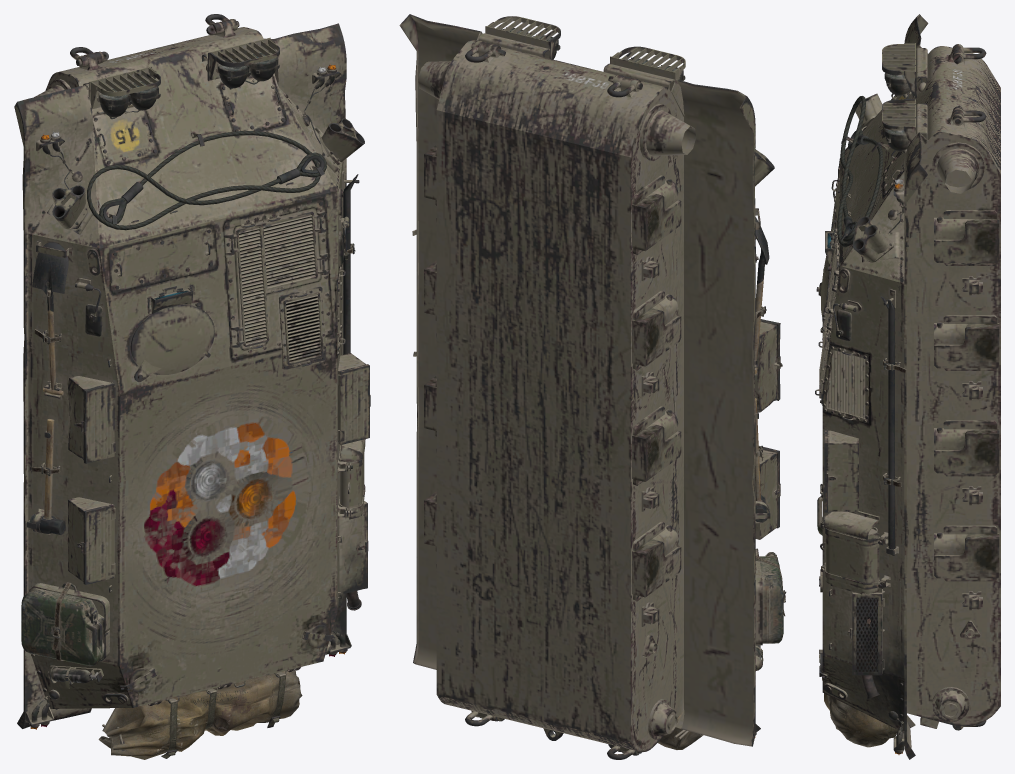
The model's file is Hull.glb.
3 renders of one model, left to right at view 1: azimuth 30°, elevation 25°; view 2: azimuth 150°, elevation 25°; view 3: azimuth 270°, elevation 25°, orthographic. The views are drawn at different scales.
Parts seen in each view (by area): view 1: set_0_group_0; view 2: set_0_group_0; view 3: set_0_group_0.
Part boxes in pixels (x1,y1,x2,y2): set_0_group_0: (14,14,370,759); set_0_group_0: (399,14,786,759); set_0_group_0: (815,14,1000,759).
Size of the model in its own units: 2.22 by 4.18 by 1.09.
1 material, 1 textured.
